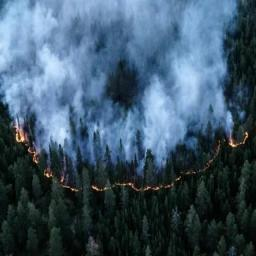Heavy smoke: (0, 0, 256, 174)
Small fire: (45, 163, 185, 196), (13, 124, 42, 164), (222, 131, 251, 150)
